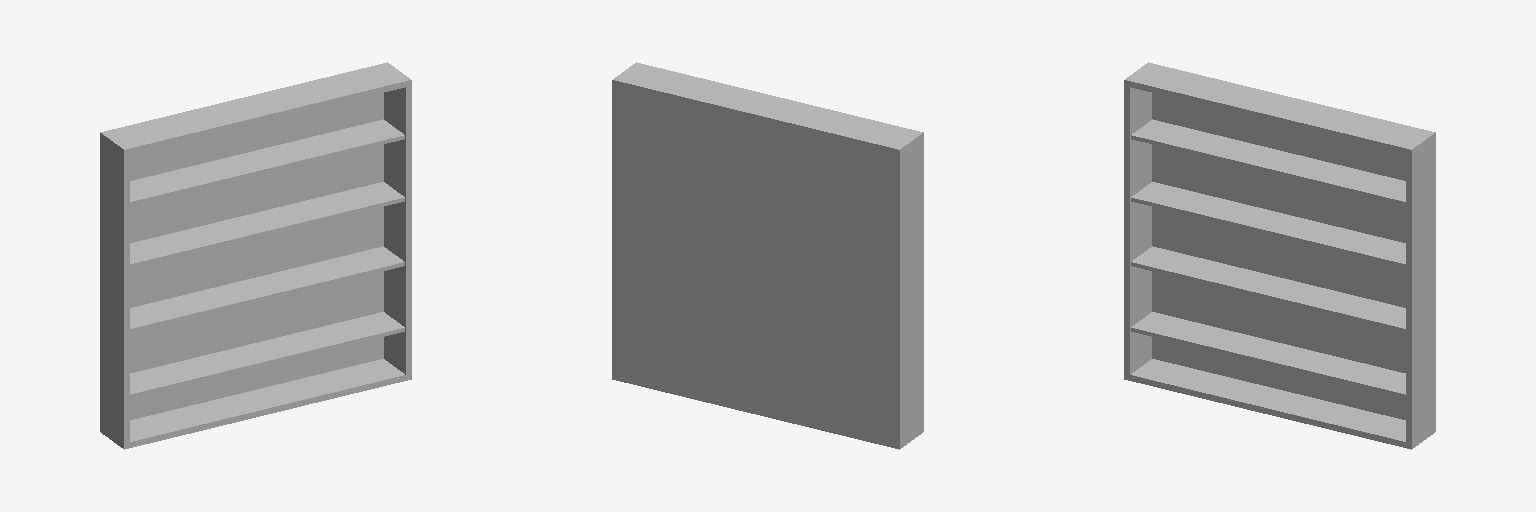
File: cupboard_2.obj
The picture shows the model from 3 angles: view 1: azimuth 30°, elevation 25°; view 2: azimuth 150°, elevation 25°; view 3: azimuth 330°, elevation 25°; orthographic projection.
Parts seen in each view (by area): view 1: Plane_Plane.001; view 2: Plane_Plane.001; view 3: Plane_Plane.001.
Boxes of the visible parts, x1=… form: Plane_Plane.001: x1=100, y1=62, x2=411, y2=449; Plane_Plane.001: x1=612, y1=62, x2=923, y2=449; Plane_Plane.001: x1=1124, y1=62, x2=1435, y2=449.
Size of the model in its own units: 8 by 7.97 by 1.15.